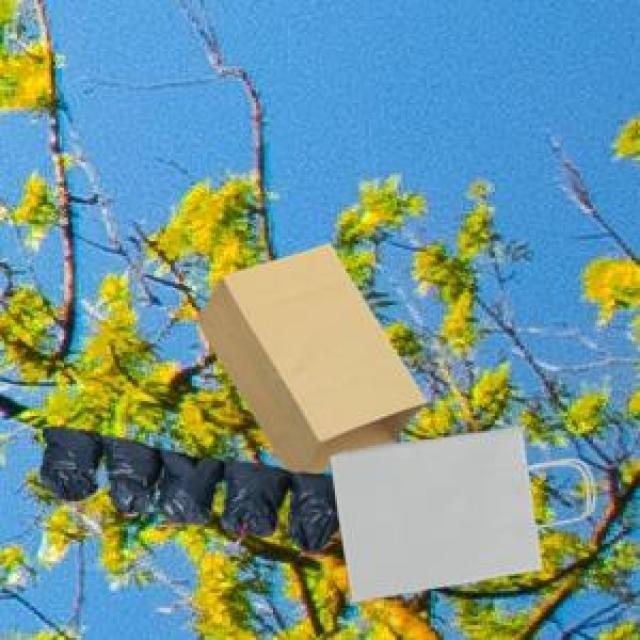miscellaneous trash: (36, 422, 337, 550)
paper: (194, 239, 422, 469), (326, 422, 589, 597)
